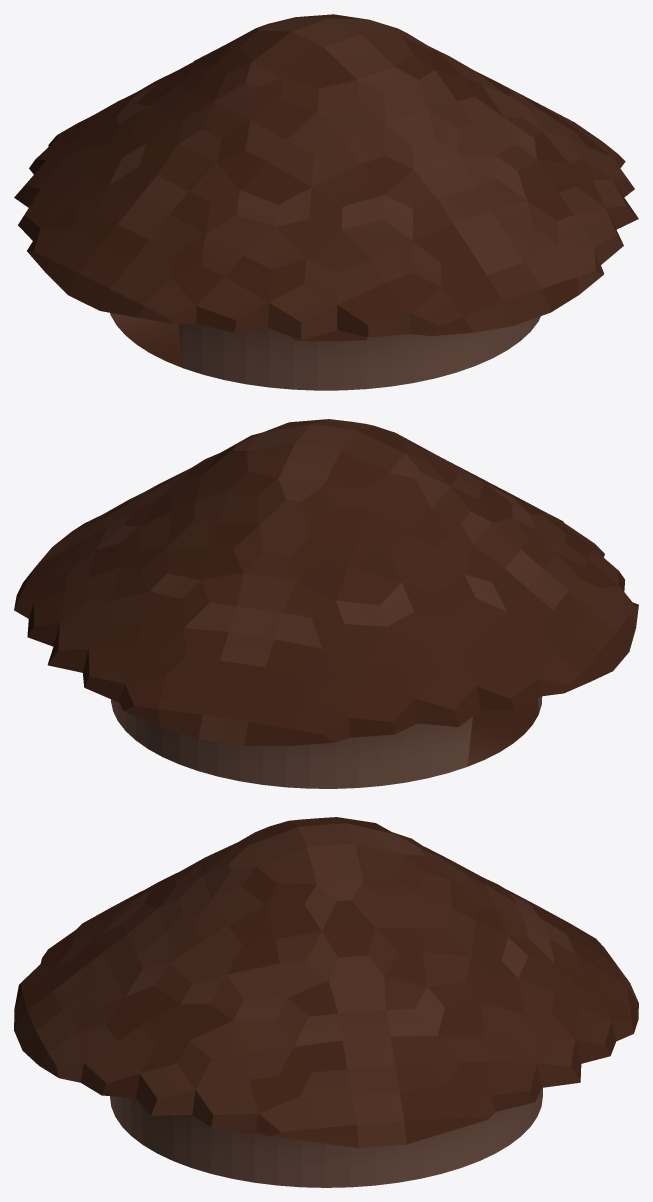
File: ocas pequena4.fbx
3 renders of one model, top to bottom at view 1: azimuth 30°, elevation 25°; view 2: azimuth 150°, elevation 25°; view 3: azimuth 270°, elevation 25°, orthographic.
Visible parts, largest first — view 1: Cone.003, oca4; view 2: Cone.003, oca4; view 3: Cone.003, oca4.
Boxes of the visible parts, <box> form: Cone.003: <box>14,14,638,340</box>; oca4: <box>110,313,540,390</box>; Cone.003: <box>14,419,638,745</box>; oca4: <box>111,696,542,788</box>; Cone.003: <box>14,817,638,1147</box>; oca4: <box>110,1088,542,1187</box>.
Size of the model in its own units: 397 by 183 by 395.
2 materials, 2 textured.
